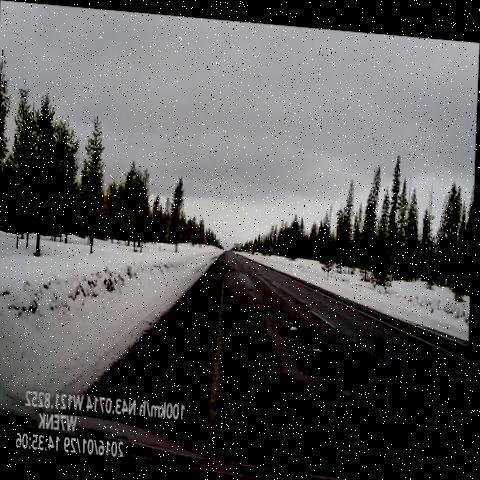pothole: (272, 295, 307, 335), (334, 370, 360, 398), (310, 336, 331, 355)
